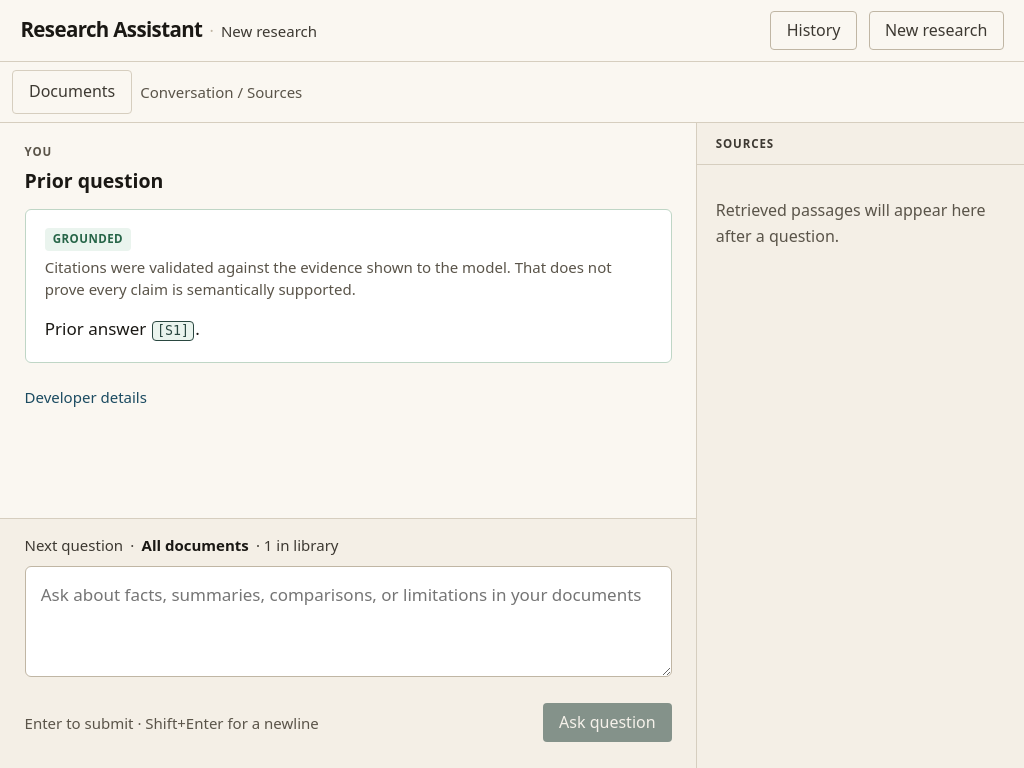
App › first-turn New research pin › existing session next question still settles
Expected: the text "Prior question" is shown, [25,167,163,194]
Type "Follow-up question" into the text box named "Research question" at (348, 622), box [25,566,672,677]
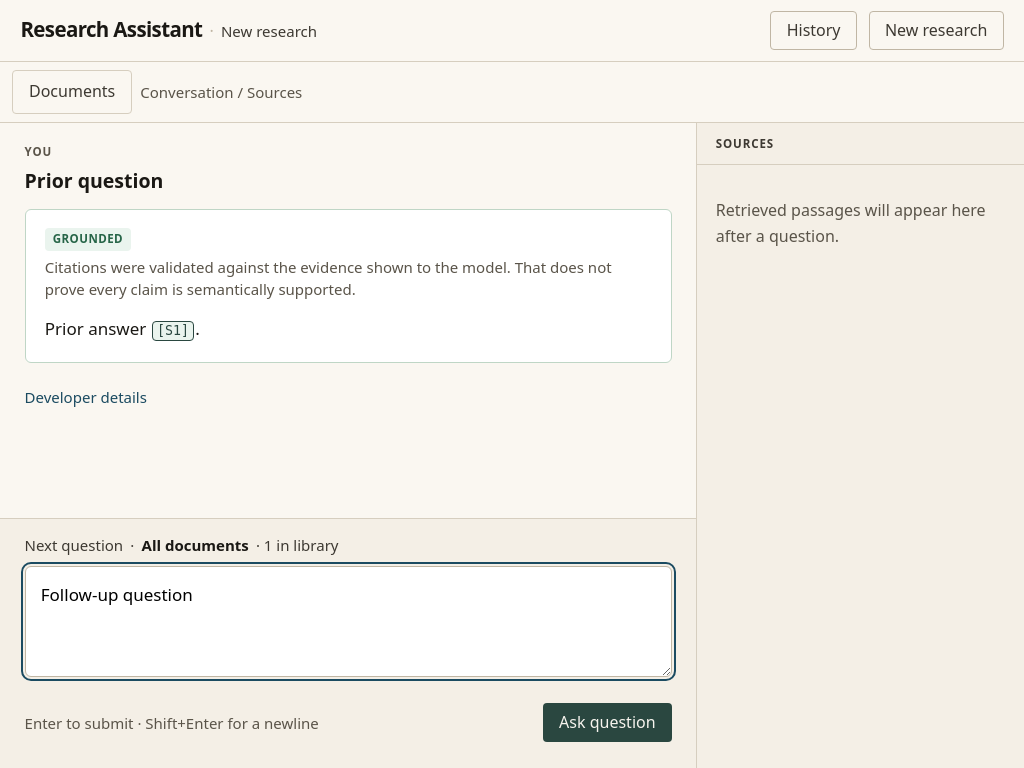
Press Enter
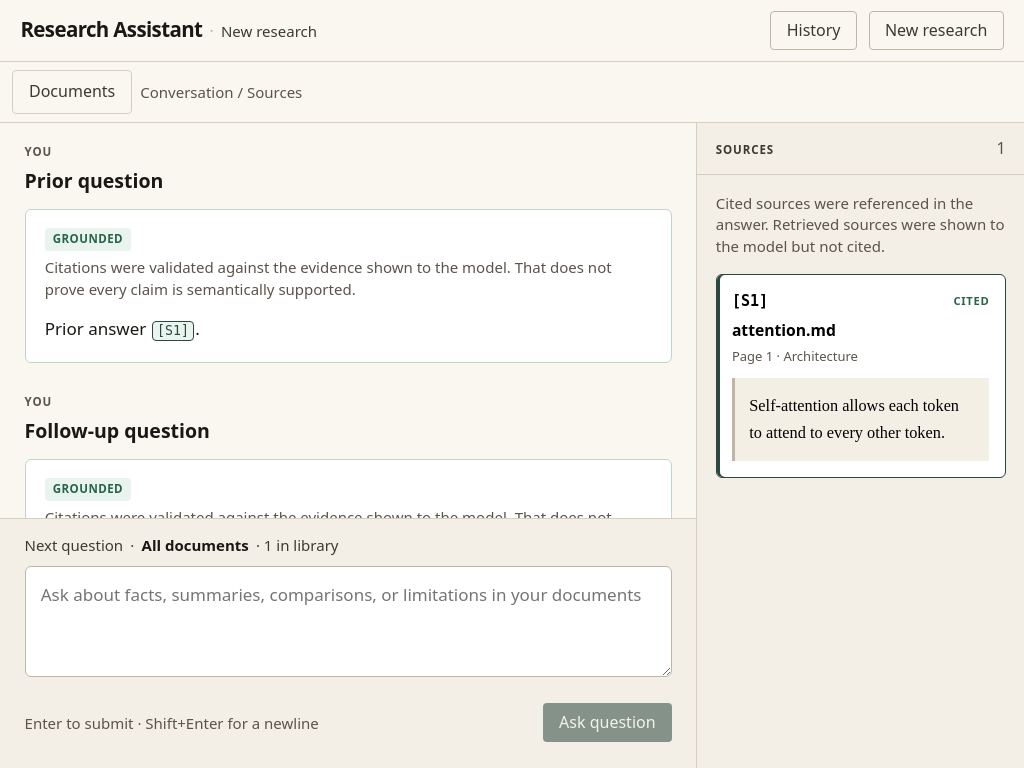
Expected: the text "Grounded" below "Prior question" is shown, [53,231,123,246]
Expected: the text "Follow-up question" is shown, [25,417,210,444]
